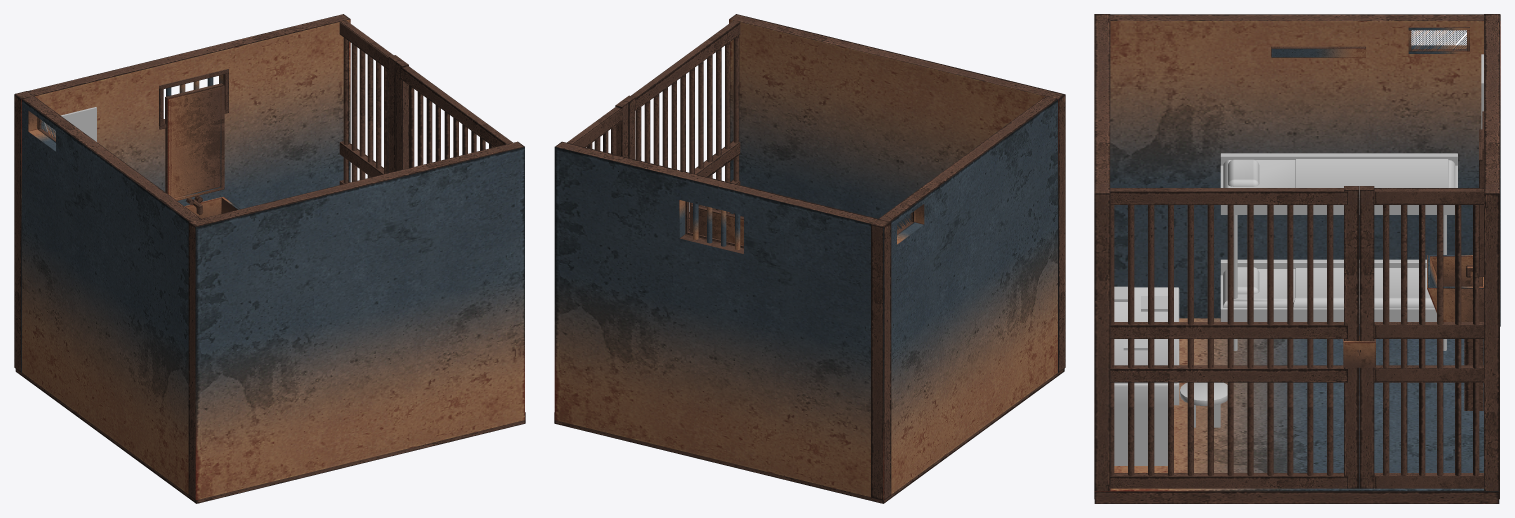
File: Prison cell.fbx
3 views of the same model, side by side, from view 1: azimuth 30°, elevation 25°; view 2: azimuth 150°, elevation 25°; view 3: azimuth 270°, elevation 25° (orthographic). The views are drawn at different scales.
Parts seen in each view (by area): view 1: pCube39.001, pCube48, pCube39, pCylinder21, pCube22, pCube20, pCube1, pCylinder29, pCube25; view 2: pCube39, pCube48, pCube39.001, pCube20, pCube1, pCylinder21, pCube22; view 3: pCube48, pCube20, pCube1, pCylinder21, pCube45, pCube4, pCube39.001, pCube39, pCube7, pCylinder29, pCube9, pCube52 (+4 smaller).
Part boxes in pixels (left/top/right/bottom): pCube39.001: left=188, top=141, right=524, bottom=500; pCube48: left=15, top=91, right=200, bottom=494; pCube39: left=14, top=14, right=350, bottom=372; pCylinder21: left=339, top=20, right=401, bottom=184; pCube22: left=165, top=83, right=224, bottom=200; pCube20: left=395, top=60, right=512, bottom=171; pCube1: left=15, top=369, right=525, bottom=503; pCylinder29: left=184, top=195, right=240, bottom=218; pCube25: left=44, top=107, right=96, bottom=141; pCube39: left=554, top=141, right=891, bottom=500; pCube48: left=871, top=96, right=1057, bottom=500; pCube39.001: left=729, top=14, right=1065, bottom=372; pCube20: left=622, top=20, right=740, bottom=231; pCube1: left=554, top=368, right=1064, bottom=503; pCylinder21: left=567, top=100, right=628, bottom=157; pCube22: left=690, top=204, right=743, bottom=245; pCube48: left=1110, top=14, right=1500, bottom=326; pCube20: left=1110, top=186, right=1358, bottom=488; pCube1: left=1094, top=318, right=1499, bottom=503; pCylinder21: left=1343, top=186, right=1483, bottom=488; pCube45: left=1220, top=153, right=1457, bottom=214; pCube4: left=1220, top=259, right=1436, bottom=323; pCube39.001: left=1094, top=14, right=1110, bottom=498; pCube39: left=1482, top=14, right=1499, bottom=499; pCube7: left=1114, top=287, right=1179, bottom=405; pCylinder29: left=1427, top=255, right=1483, bottom=410; pCube9: left=1114, top=405, right=1167, bottom=465; pCube52: left=1408, top=27, right=1469, bottom=53.
Size of the model in its own units: 6.32 by 5.09 by 6.02.
